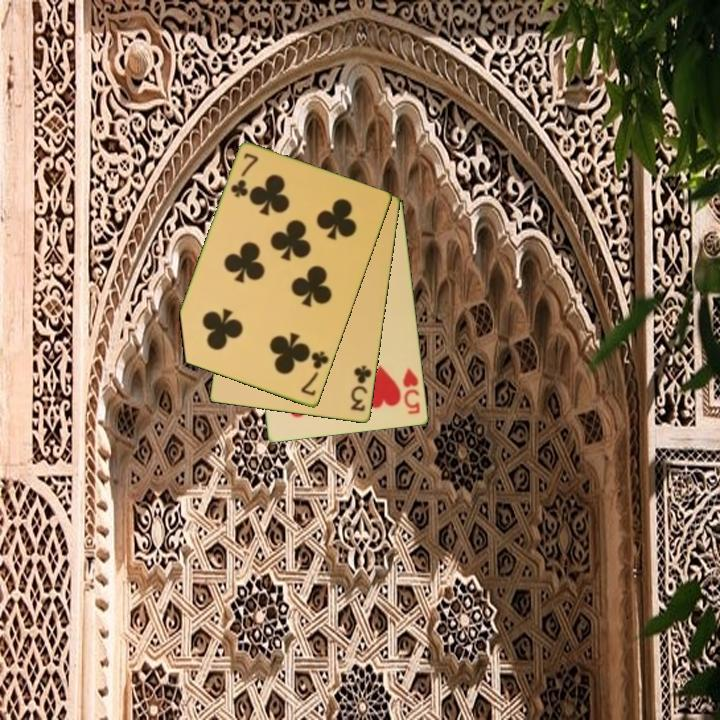3c: (347, 362, 375, 415)
5h: (399, 365, 423, 417)
7c: (227, 149, 261, 201), (298, 348, 332, 399)
